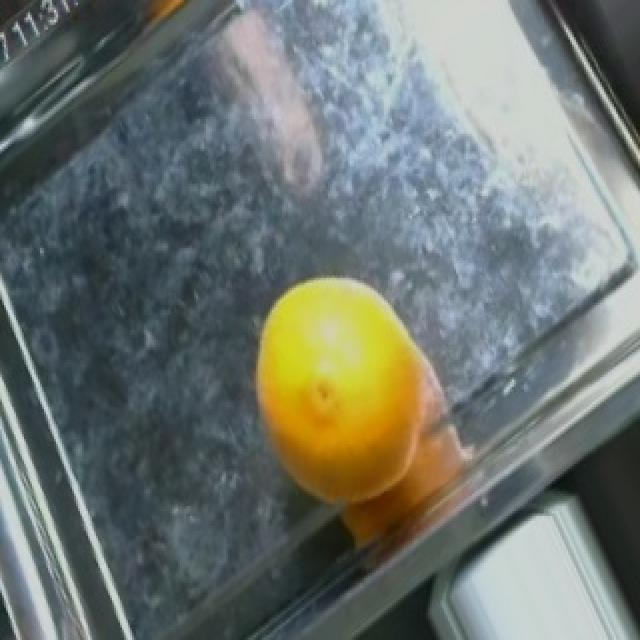Fruit: (236, 255, 474, 580)
